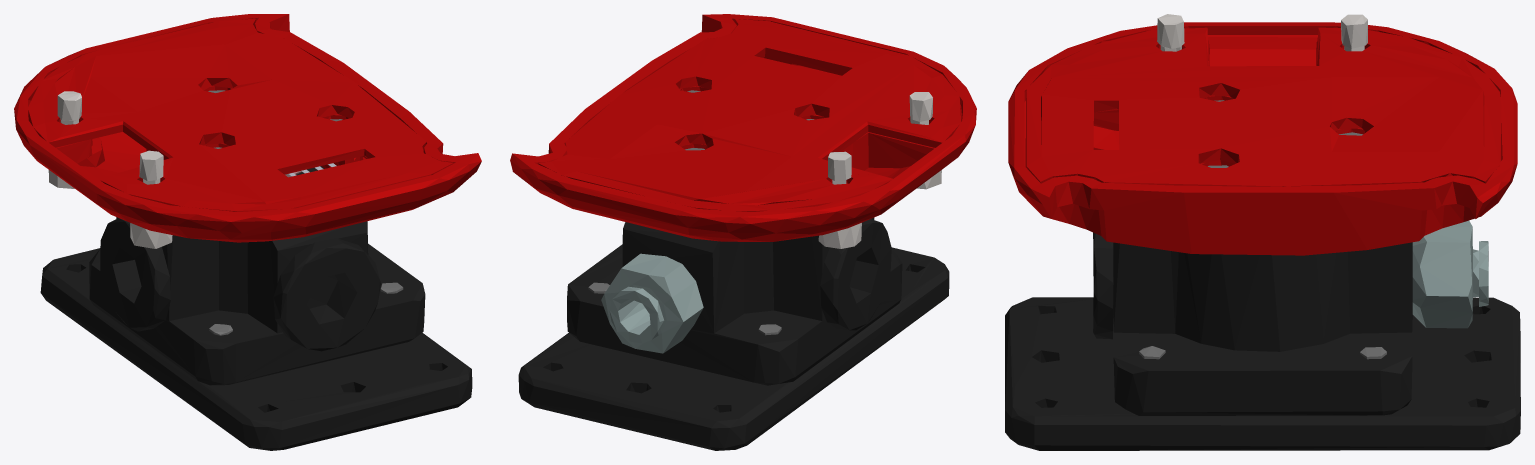
Rendered from pneumatic_gripper_base.DAE.
3 views of the same model, side by side, from view 1: azimuth 30°, elevation 25°; view 2: azimuth 150°, elevation 25°; view 3: azimuth 270°, elevation 25° (orthographic). The views are drawn at different scales.
Visible parts, largest first — view 1: ShapeIndexedFaceSet_017; view 2: ShapeIndexedFaceSet_017; view 3: ShapeIndexedFaceSet_017.
Boxes of the visible parts, left/top/right/bottom form: ShapeIndexedFaceSet_017: left=14, top=14, right=481, bottom=450; ShapeIndexedFaceSet_017: left=510, top=14, right=976, bottom=450; ShapeIndexedFaceSet_017: left=1005, top=14, right=1520, bottom=450.
Size of the model in its own units: 0.062 by 0.0758 by 0.0471.
